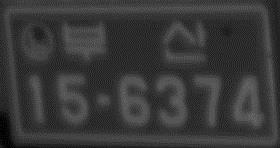-: (94, 91, 113, 111)
1: (24, 71, 48, 126)
3: (153, 73, 189, 130)
4: (228, 73, 267, 130)
5: (54, 70, 89, 128)
6: (117, 73, 153, 128)
7: (191, 72, 225, 129)
부산_D: (59, 16, 211, 67)
영: (19, 19, 56, 64)
